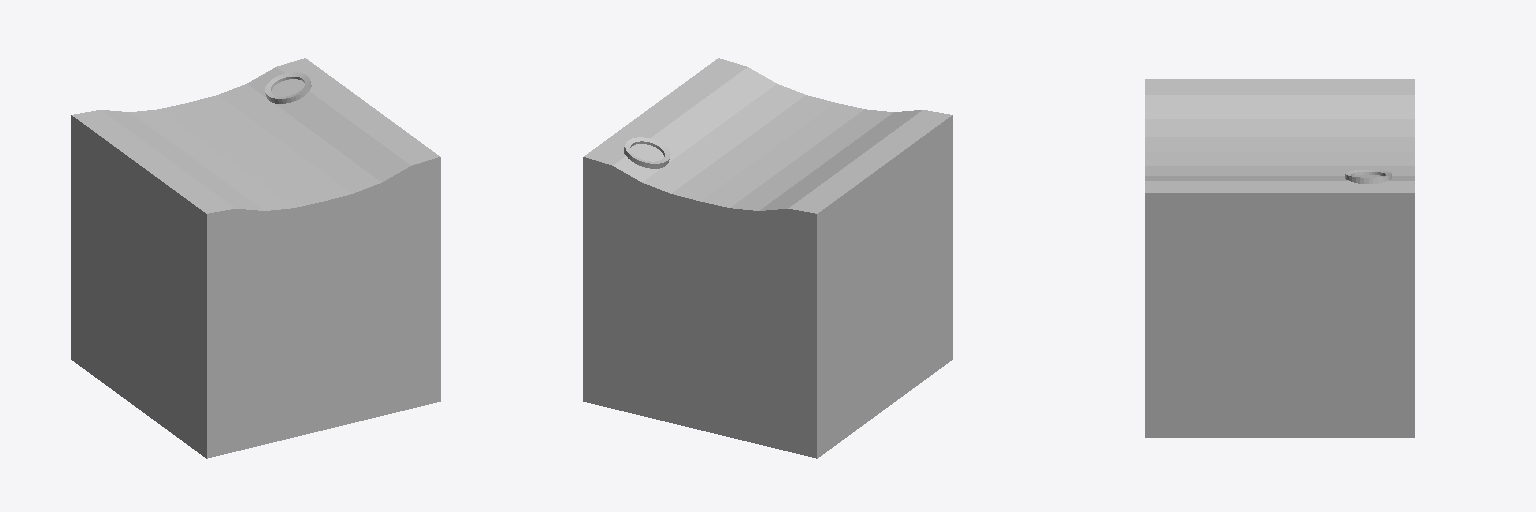
The model's file is buttonBlue.obj.
The picture shows the model from 3 angles: view 1: azimuth 30°, elevation 25°; view 2: azimuth 150°, elevation 25°; view 3: azimuth 270°, elevation 25°; orthographic projection.
Parts seen in each view (by area): view 1: Cylinder; view 2: Cylinder; view 3: Cylinder.
Part boxes in pixels (x1,y1,x2,y2): Cylinder: (71,58,440,458); Cylinder: (583,58,952,458); Cylinder: (1145,79,1414,437).
Size of the model in its own units: 2 by 2.04 by 2.